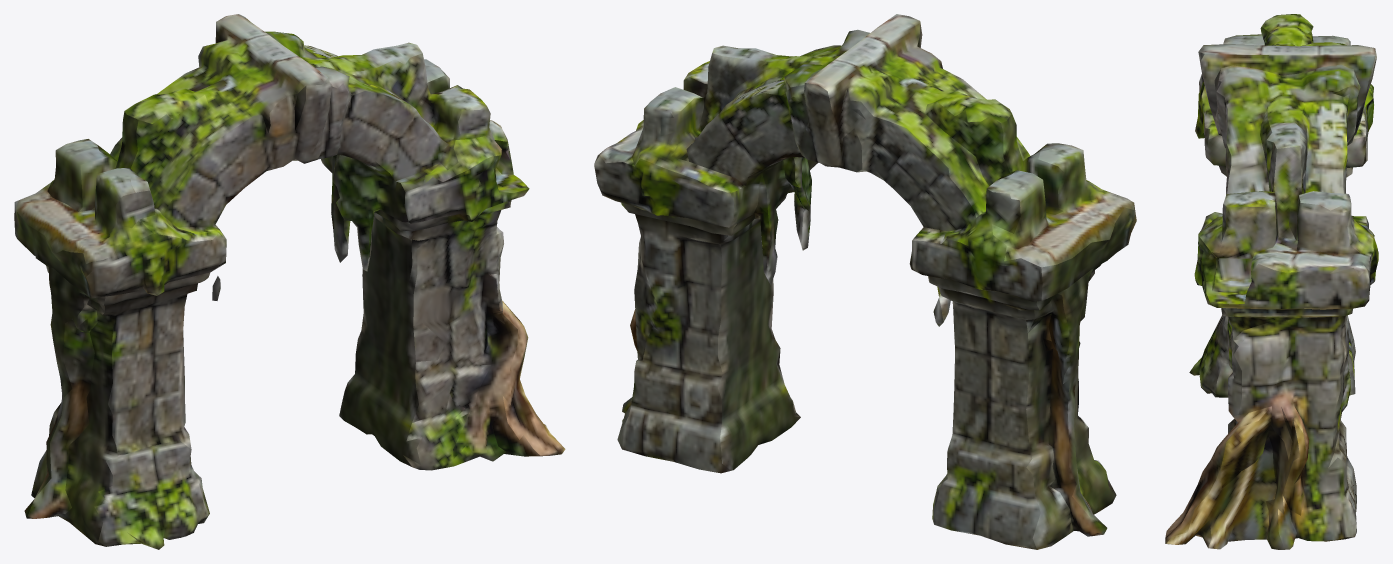
The model's file is F3D_20_Arch.fbx.
The picture shows the model from 3 angles, left to right: view 1: azimuth 30°, elevation 25°; view 2: azimuth 150°, elevation 25°; view 3: azimuth 270°, elevation 25°; orthographic projection. The views are drawn at different scales.
Parts seen in each view (by area): view 1: F3D_20_Arch; view 2: F3D_20_Arch; view 3: F3D_20_Arch.
Boxes of the visible parts, box(x1,y1,x2,y2) form: F3D_20_Arch: box(14, 14, 565, 549); F3D_20_Arch: box(594, 14, 1136, 549); F3D_20_Arch: box(1165, 14, 1378, 549).
Size of the model in its own units: 1.18 by 1 by 0.4798.
Materials: 1 (1 with a texture image).
